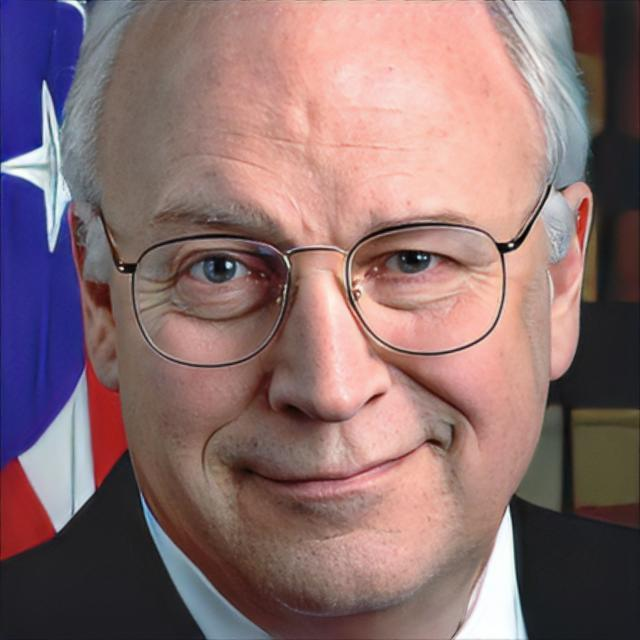content: (93, 0, 551, 620)
